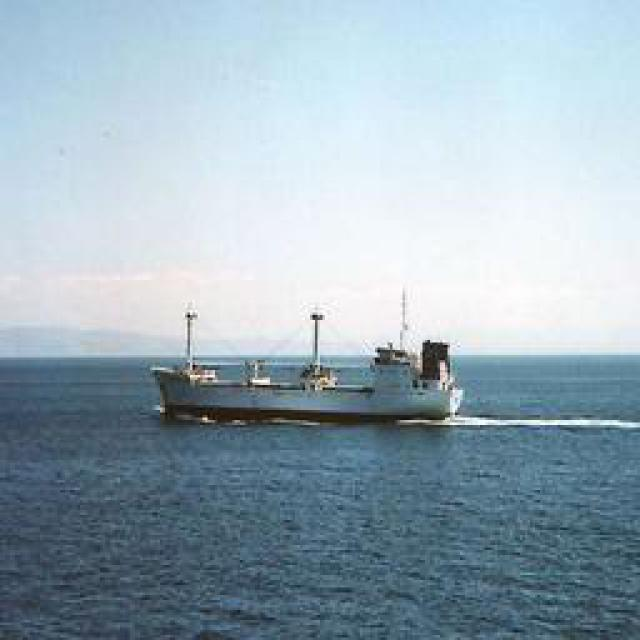Ship: (156, 344, 464, 424)
